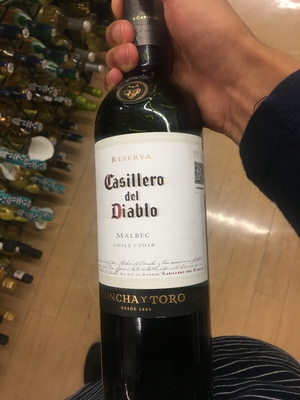casillero del diablo malbec: (89, 7, 229, 400)
